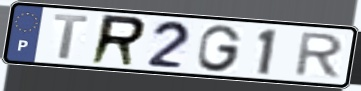1: (255, 27, 280, 76)
2: (142, 18, 196, 73)
G: (196, 23, 245, 73)
R: (87, 12, 150, 68), (291, 31, 347, 80)
T: (52, 13, 92, 61)
